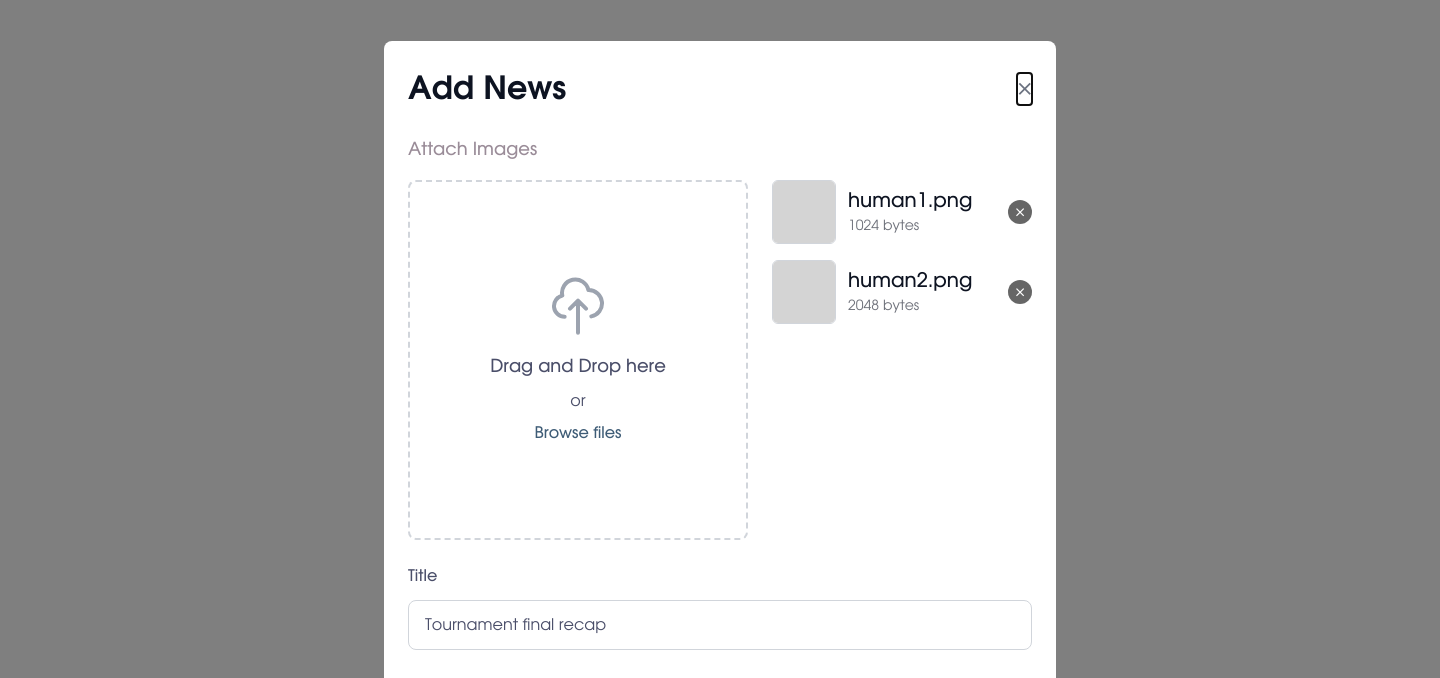
AddPostModal › removes one completed image without clearing the other images or form fields
Click the button named "Remove human1.png".
click(1020, 212)  # box [1008,200,1032,224]
(page scrolled)
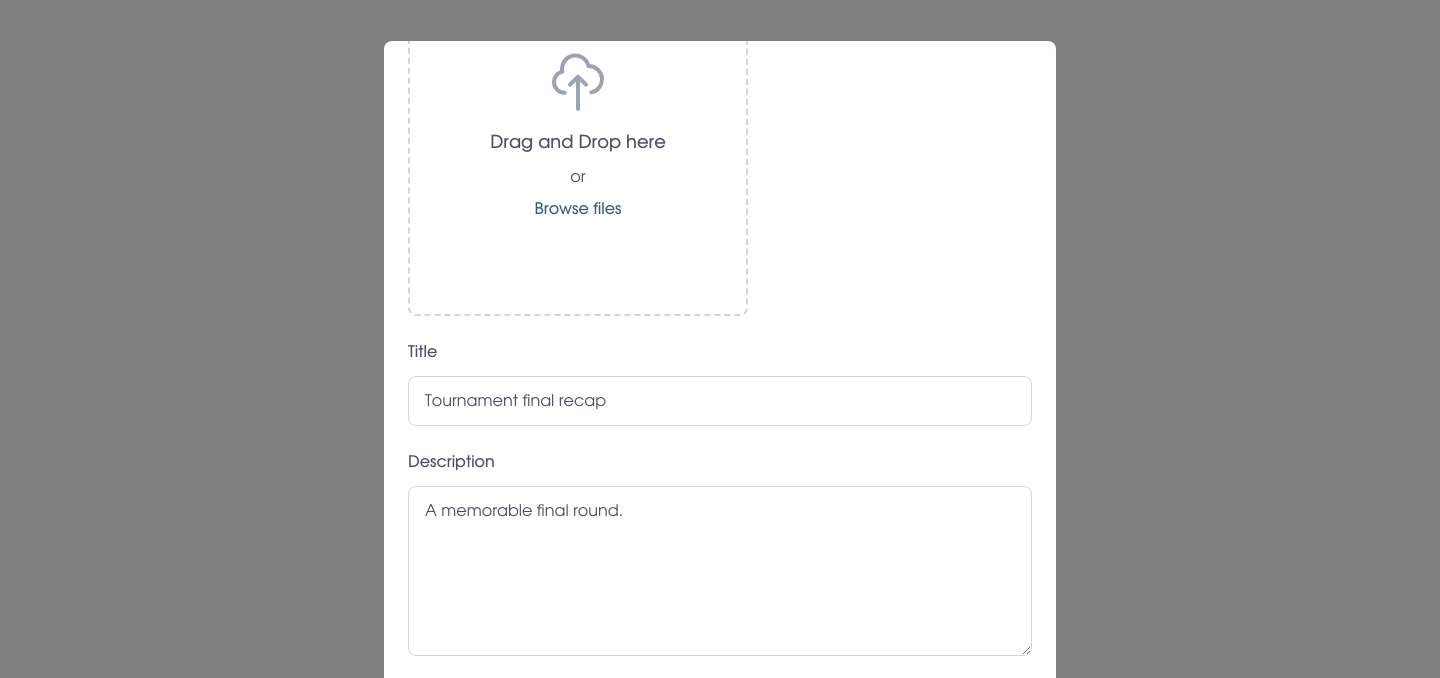
Check: the field with placeholder "Enter post title" holds "Tournament final recap", box [408,376,1032,426]
Check: the text with alt text "human1.png" is gone
